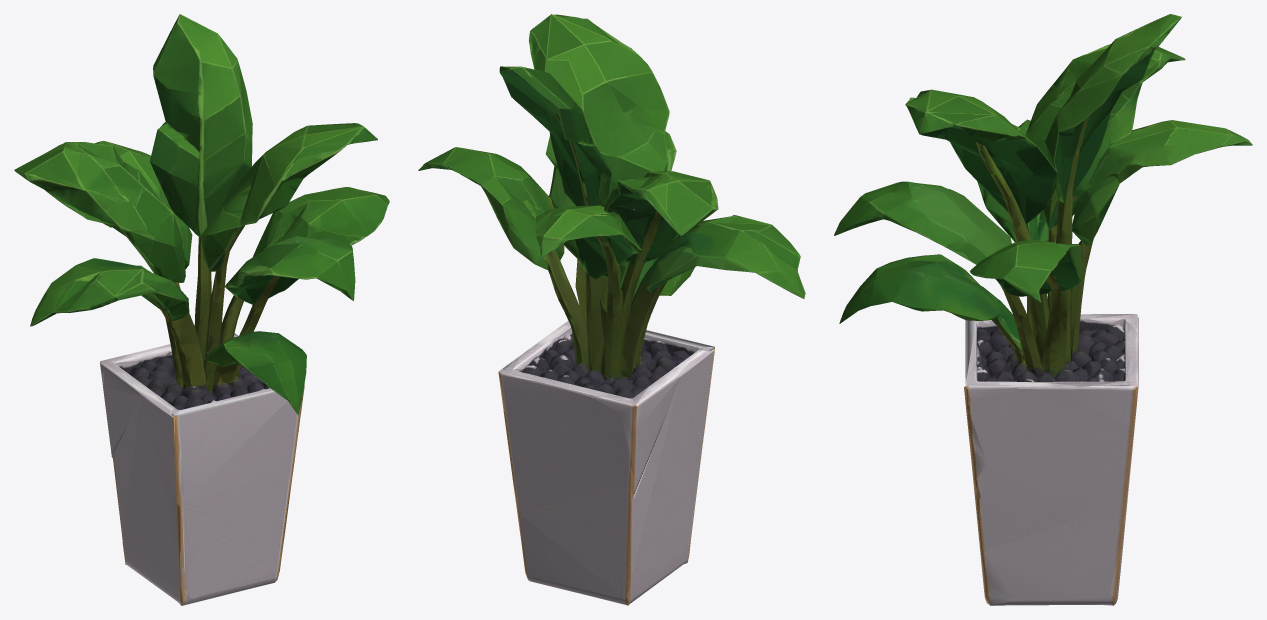
Rendered from faceted-foliage.glb.
3 renders of one model, left to right at view 1: azimuth 30°, elevation 25°; view 2: azimuth 150°, elevation 25°; view 3: azimuth 270°, elevation 25°, orthographic. The views are drawn at different scales.
Visible parts, largest first — view 1: Mesh_0; view 2: Mesh_0; view 3: Mesh_0.
Boxes of the visible parts, <box> form: Mesh_0: <box>14,14,389,605</box>; Mesh_0: <box>418,14,805,605</box>; Mesh_0: <box>834,14,1252,605</box>.
Size of the model in its own units: 1.41 by 1.9 by 1.24.
1 material, 1 textured.
